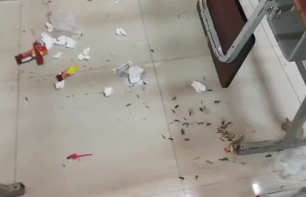garbage: (39, 8, 94, 42), (166, 95, 217, 131), (11, 39, 57, 74), (212, 116, 250, 158), (39, 22, 81, 53), (274, 149, 306, 178), (108, 59, 145, 84), (193, 154, 258, 167), (50, 67, 83, 92), (119, 91, 152, 116), (154, 130, 195, 146), (163, 170, 214, 182), (273, 117, 300, 138), (67, 148, 100, 162), (79, 47, 100, 63), (192, 78, 213, 94), (111, 26, 129, 41), (259, 149, 277, 162), (98, 86, 119, 97), (145, 48, 156, 53)
